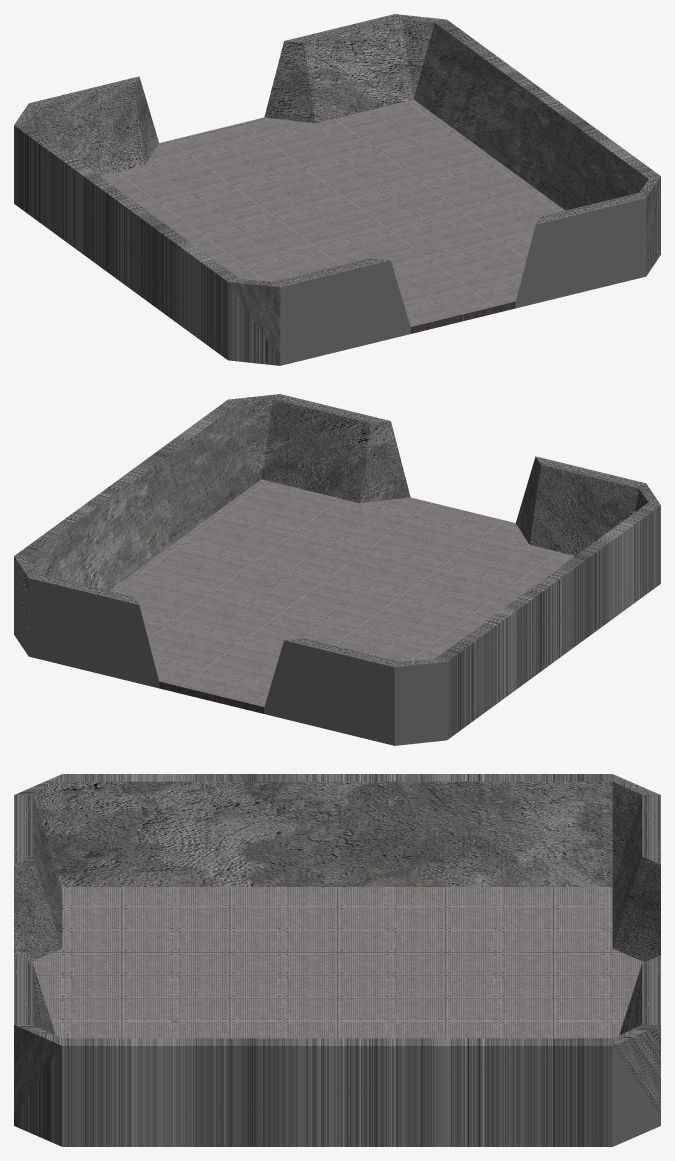
File: Holl I.fbx
3 views of the same model, one above another, from view 1: azimuth 30°, elevation 25°; view 2: azimuth 150°, elevation 25°; view 3: azimuth 270°, elevation 25° (orthographic). The views are drawn at different scales.
Visible parts, largest first — view 1: Holl I; view 2: Holl I; view 3: Holl I.
Part boxes in pixels (x1,y1,x2,y2): Holl I: [14, 14, 660, 365]; Holl I: [14, 394, 660, 745]; Holl I: [14, 774, 660, 1146].
Bounding box in the file's own units: 1827 × 317 × 1837.
